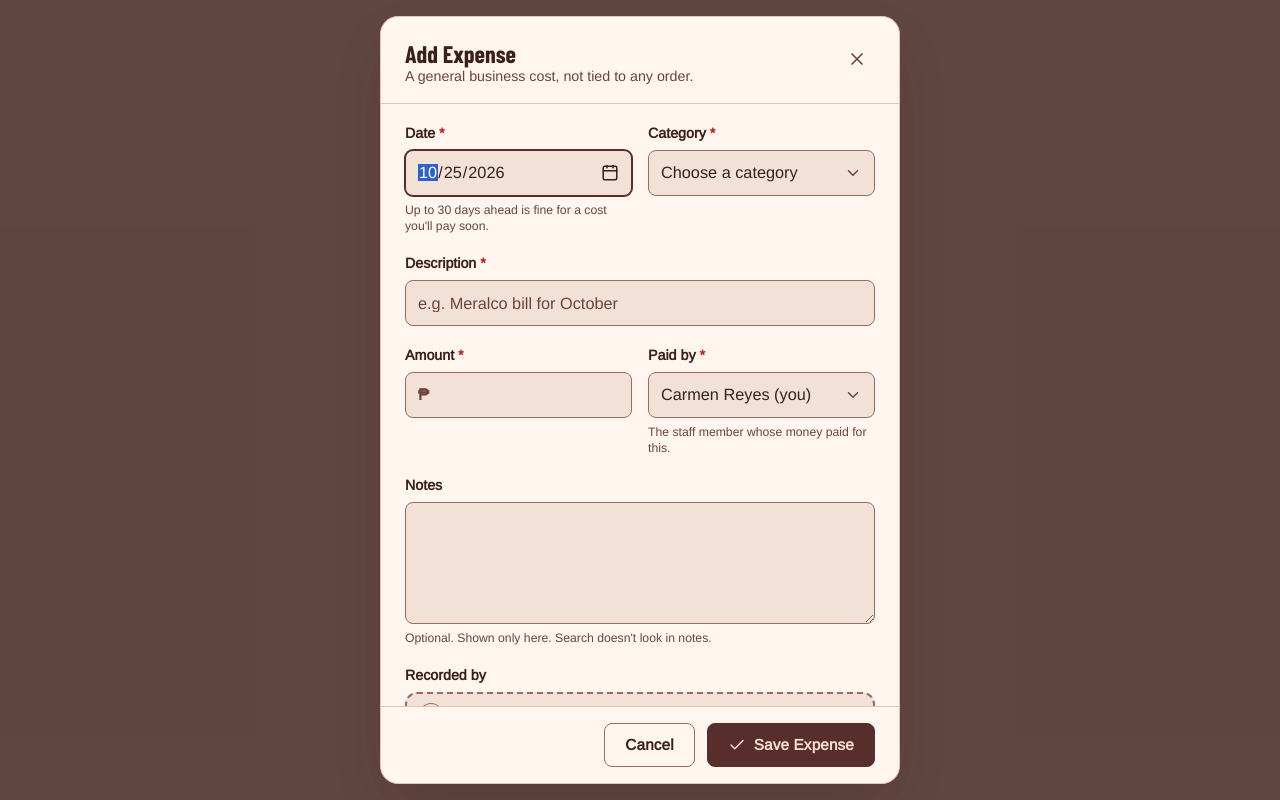
Test: E2 checks before sending (OR-3) › refuses a date after today plus 30 days with the latest day named, before any request
This screenshot has width=1280, height=800.
Expected: the dropdown labelled "Paid by *" is enabled, [649,373,874,417]
Select "Supplies" in the dropdown labelled "Category *". click: [762, 173]
box: [649,151,874,195]
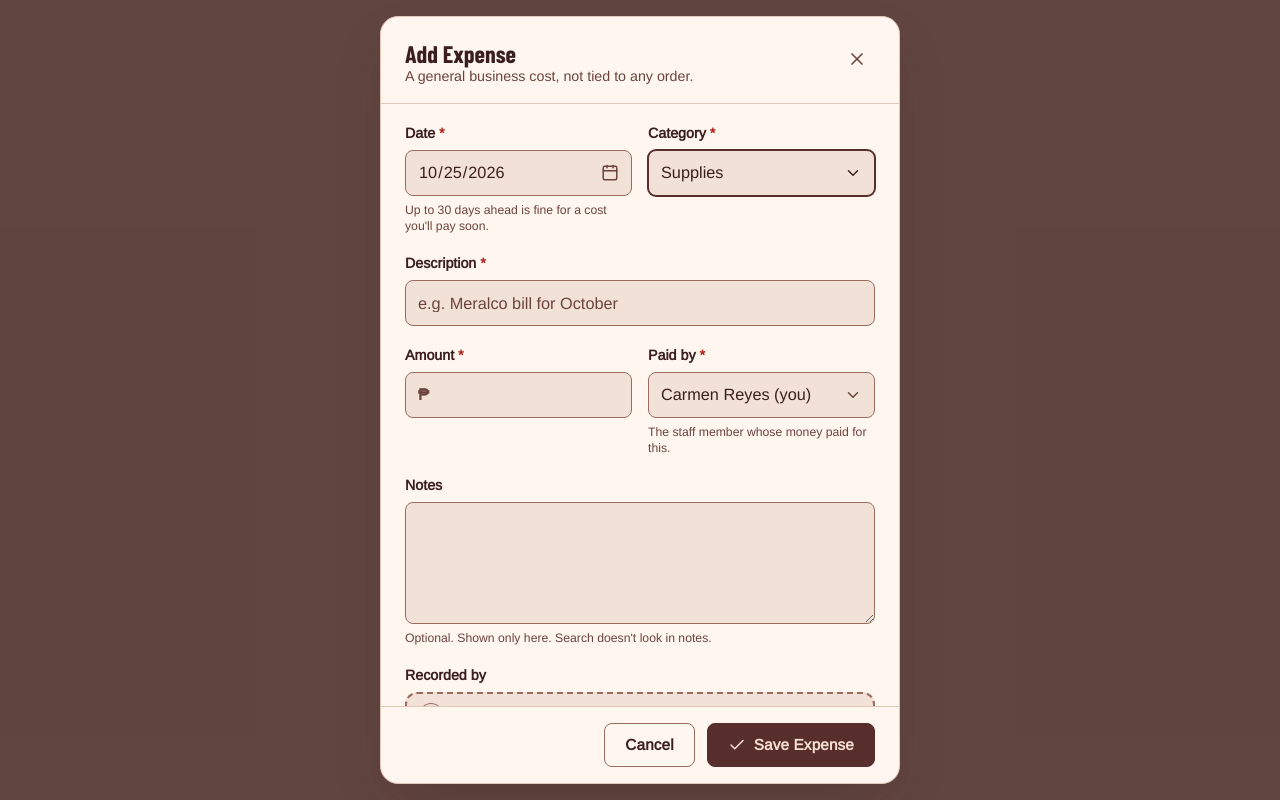
Type "Thread and needles" into the field labelled "Description *". click: [640, 303]
box: [406,281,874,325]
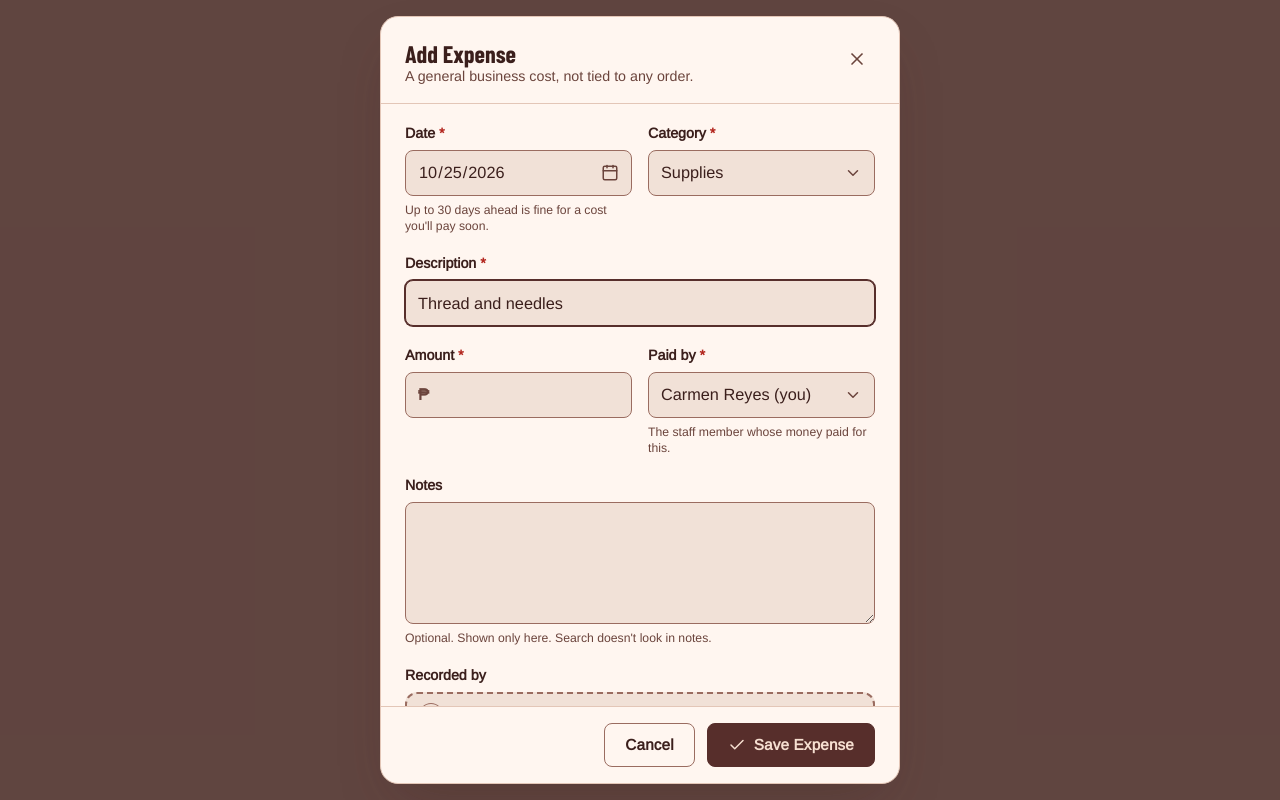
Type "640" into the field labelled "Amount *". click: [530, 395]
box: [429,373,631,417]
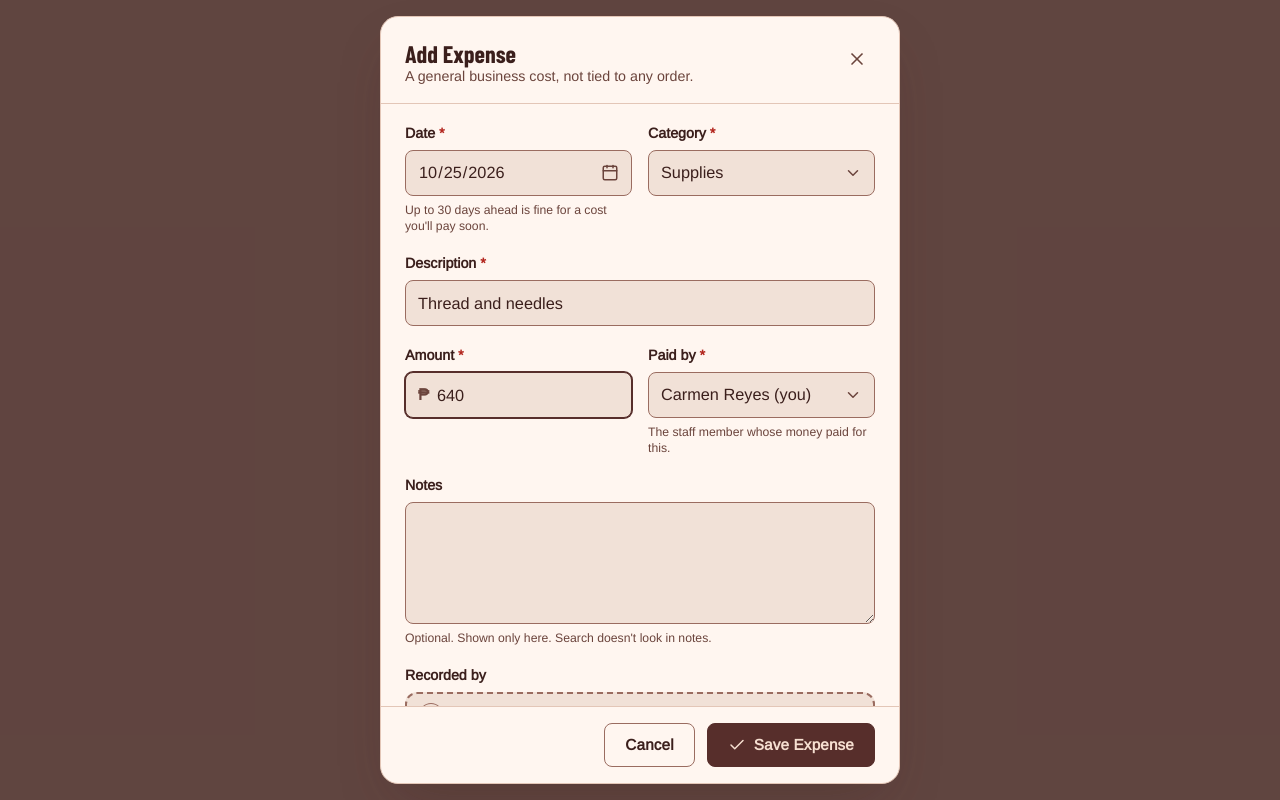
Type "2026-11-25" into the date field labelled "Date *". click: [518, 173]
box: [406,151,631,195]
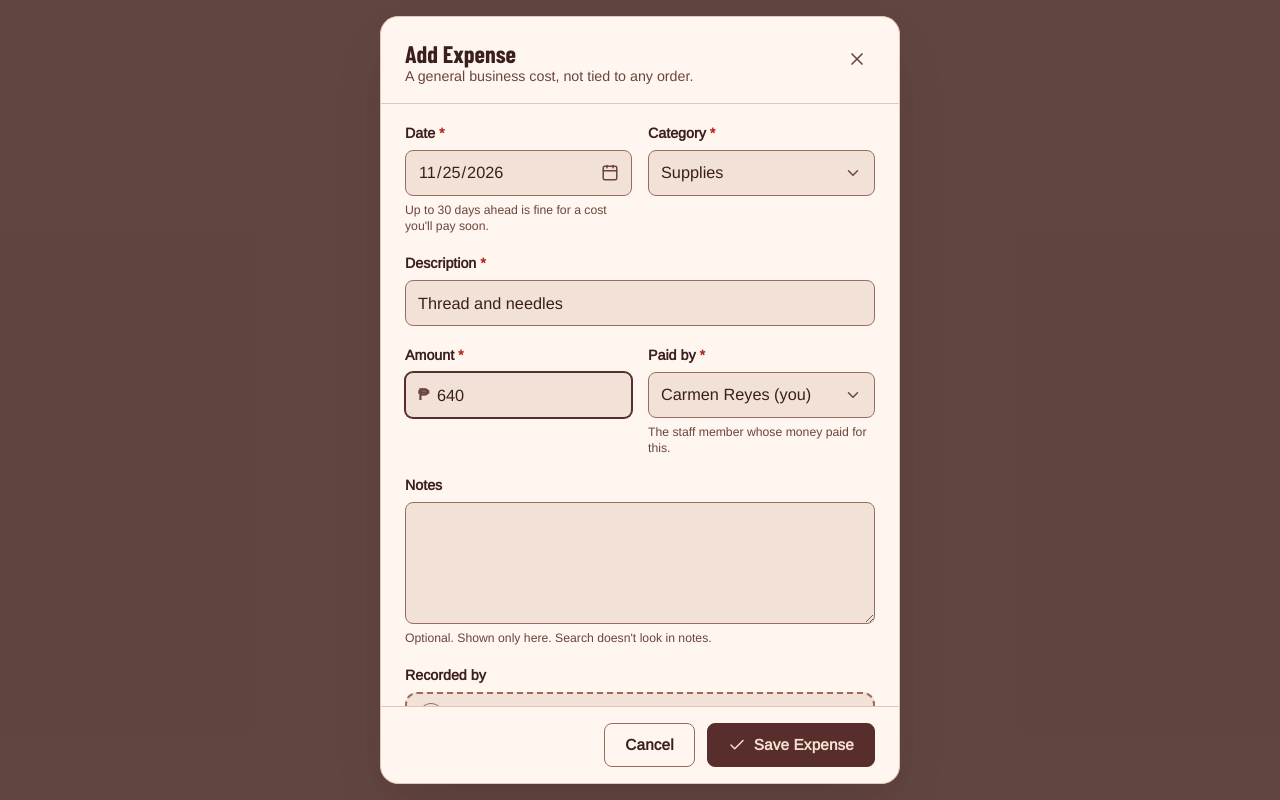
Click the button "Save Expense". click: [791, 745]
box: [707,723,875,767]
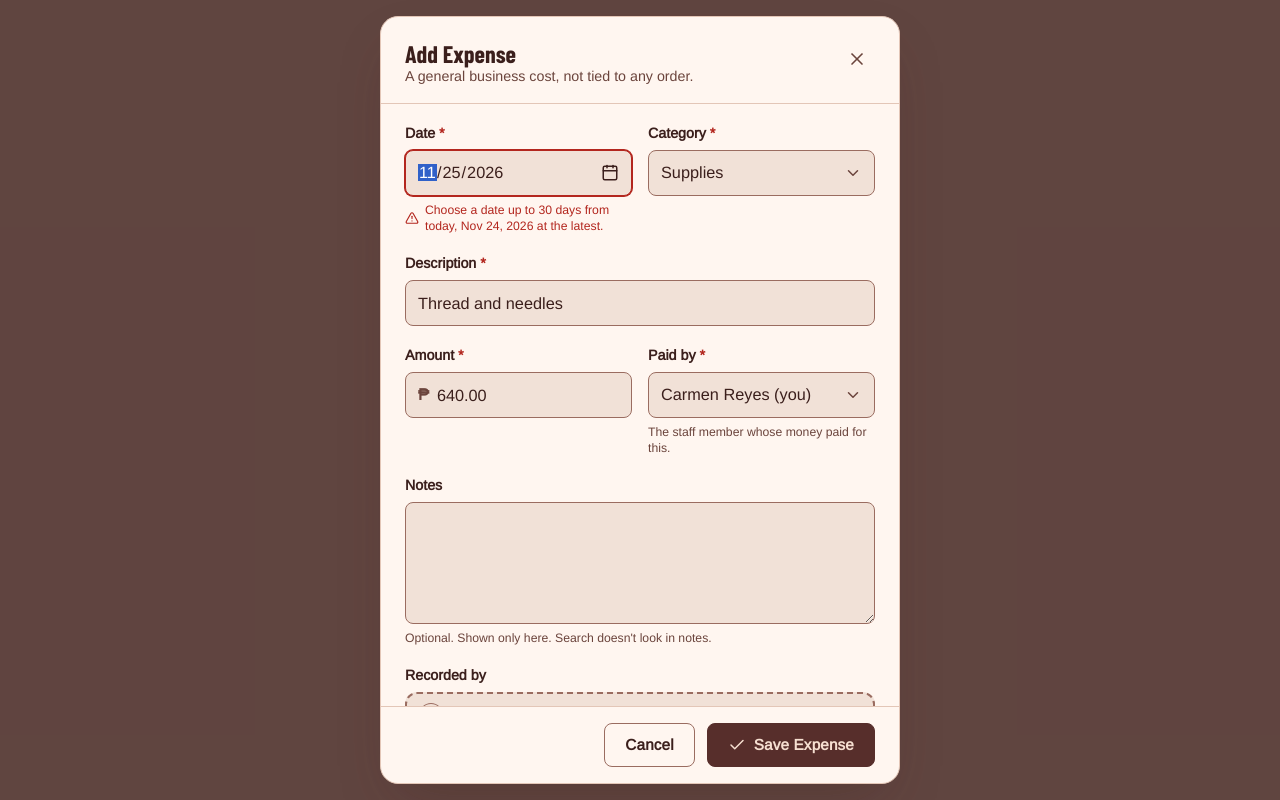
Result: the text "Choose a date up to 30 days from today, Nov 24, 2026 at the latest." is shown at [405,202,632,234]
